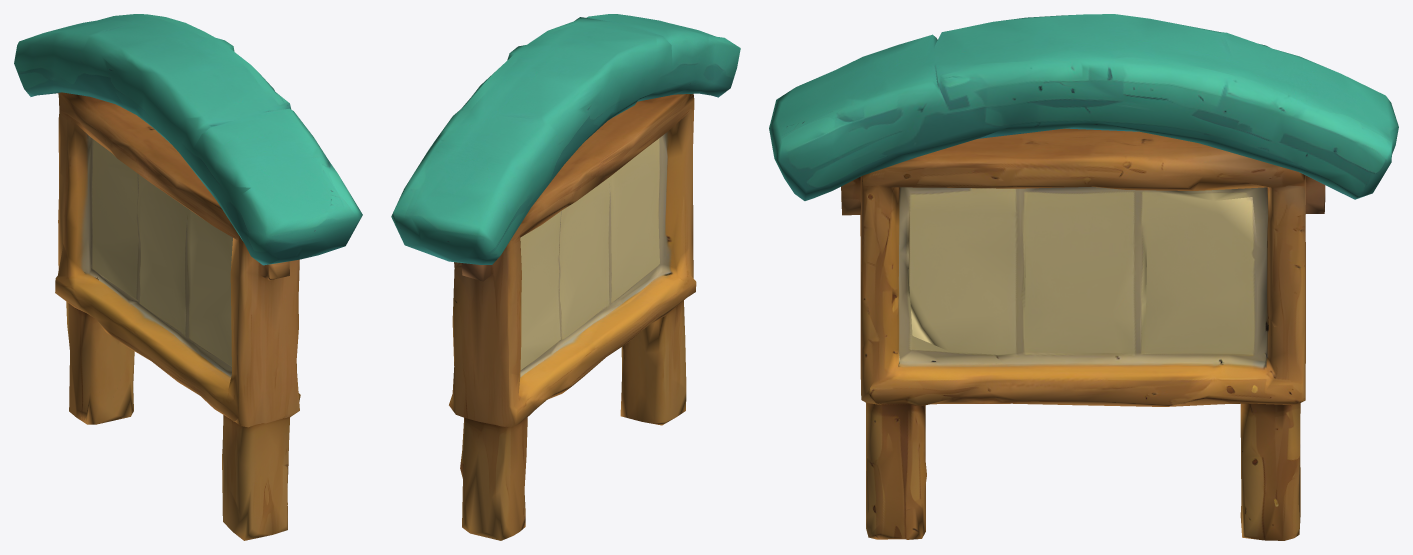
3 renders of one model, left to right at view 1: azimuth 30°, elevation 25°; view 2: azimuth 150°, elevation 25°; view 3: azimuth 270°, elevation 25°, orthographic. The views are drawn at different scales.
Parts seen in each view (by area): view 1: tripo_node_1ed98408-9ea5-4703-b4b9-bcaf3e242659; view 2: tripo_node_1ed98408-9ea5-4703-b4b9-bcaf3e242659; view 3: tripo_node_1ed98408-9ea5-4703-b4b9-bcaf3e242659.
Part boxes in pixels (left/top/right/bottom): tripo_node_1ed98408-9ea5-4703-b4b9-bcaf3e242659: left=14, top=14, right=362, bottom=540; tripo_node_1ed98408-9ea5-4703-b4b9-bcaf3e242659: left=391, top=14, right=740, bottom=540; tripo_node_1ed98408-9ea5-4703-b4b9-bcaf3e242659: left=769, top=14, right=1398, bottom=540.
Bounding box in the file's own units: 0.2227 × 0.8697 × 1.
1 material, 1 textured.
